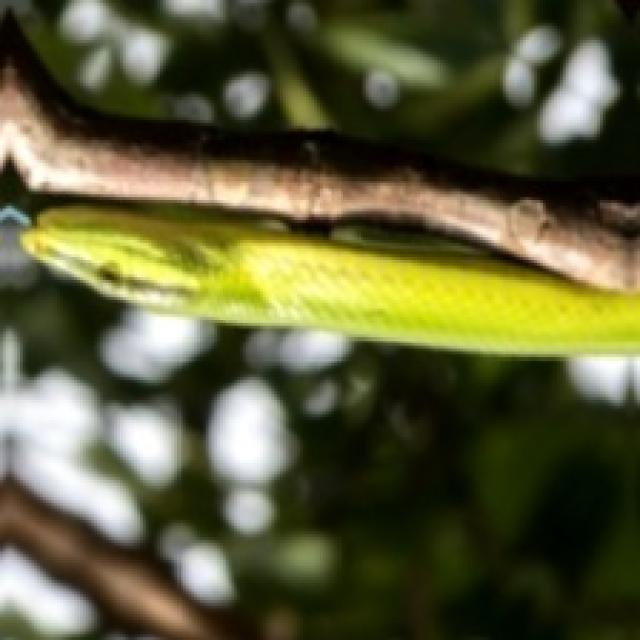red-tailed green ratsnake: (23, 206, 637, 354)
